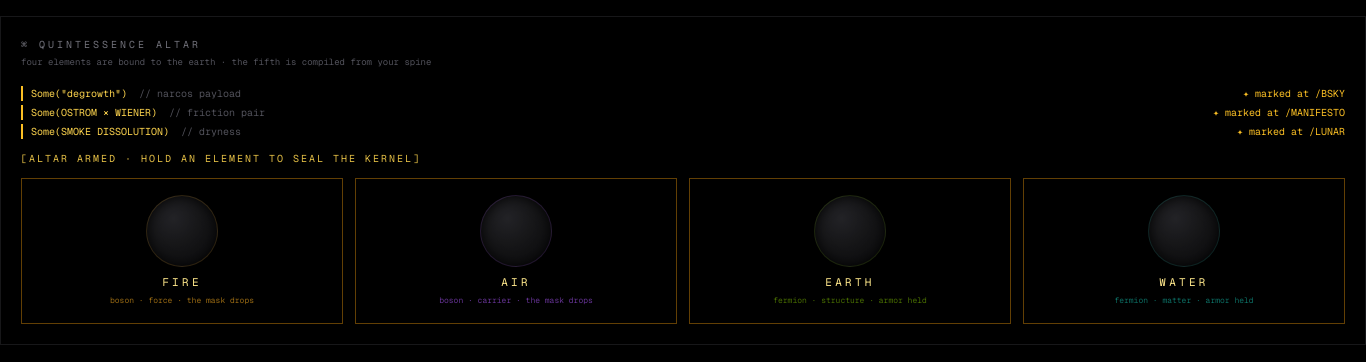
QuintessenceAltar — the living altar › compiling: the mirror yields the frame to the stages
Step 1. Press the mouse on the button "FIRE boson · force · the mask drops" → (182, 251), box [21,178,343,324]
Wait 1200 ms
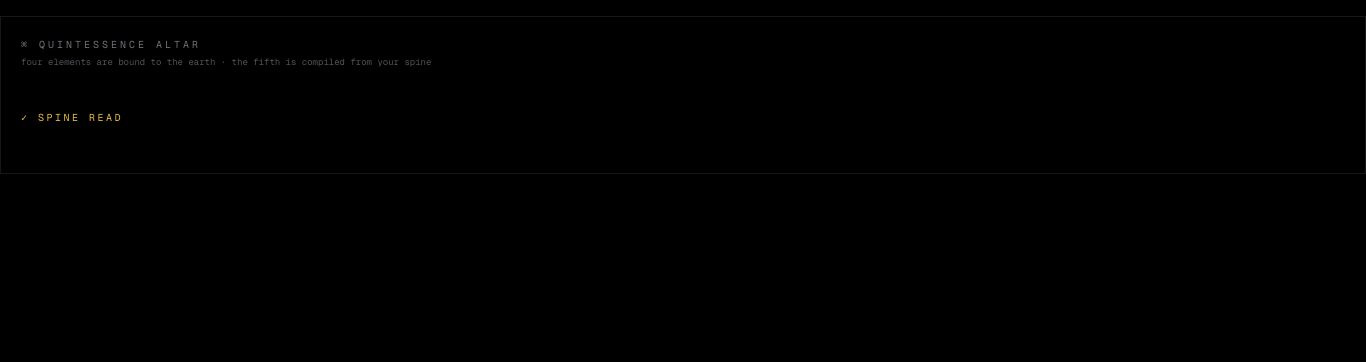
Now the text "SPINE READ" is shown, box [38,110,123,124]
Now the list with test id "spine-mirror" is gone
